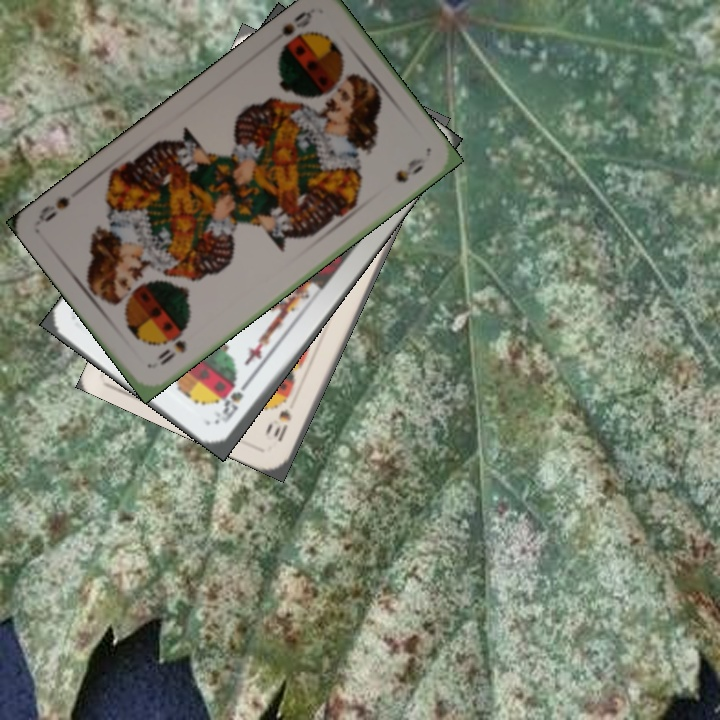S10: (269, 404, 294, 445)
SK: (212, 374, 255, 426)
SO: (153, 336, 189, 369), (278, 7, 315, 39)
